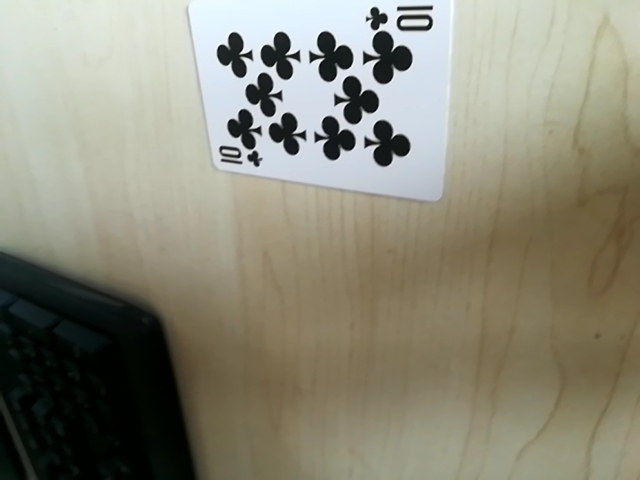mh 10: (365, 2, 444, 31), (213, 140, 266, 175)
